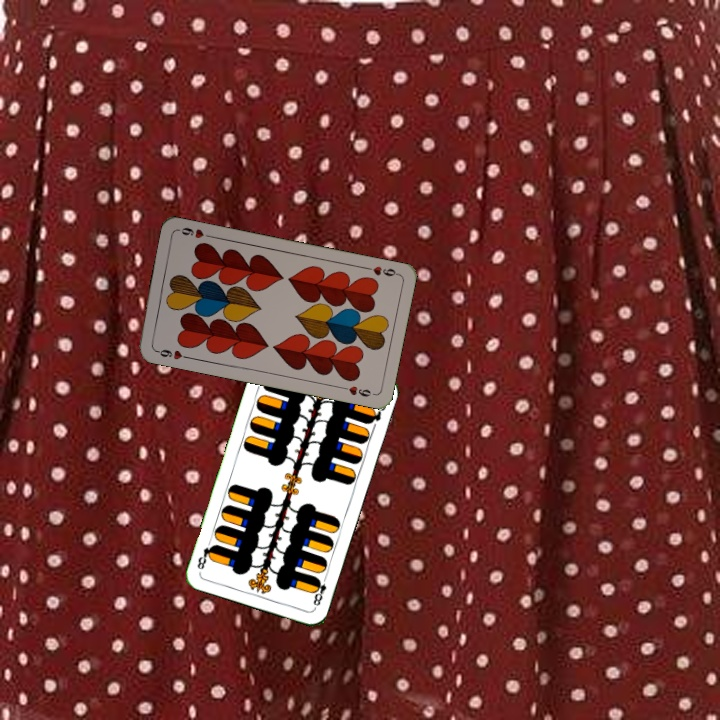E8: (309, 572, 330, 611)
H9: (360, 262, 401, 279), (151, 345, 192, 362)
